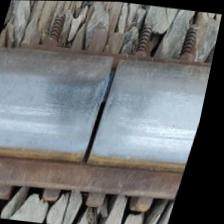person: (36, 48, 174, 177)
